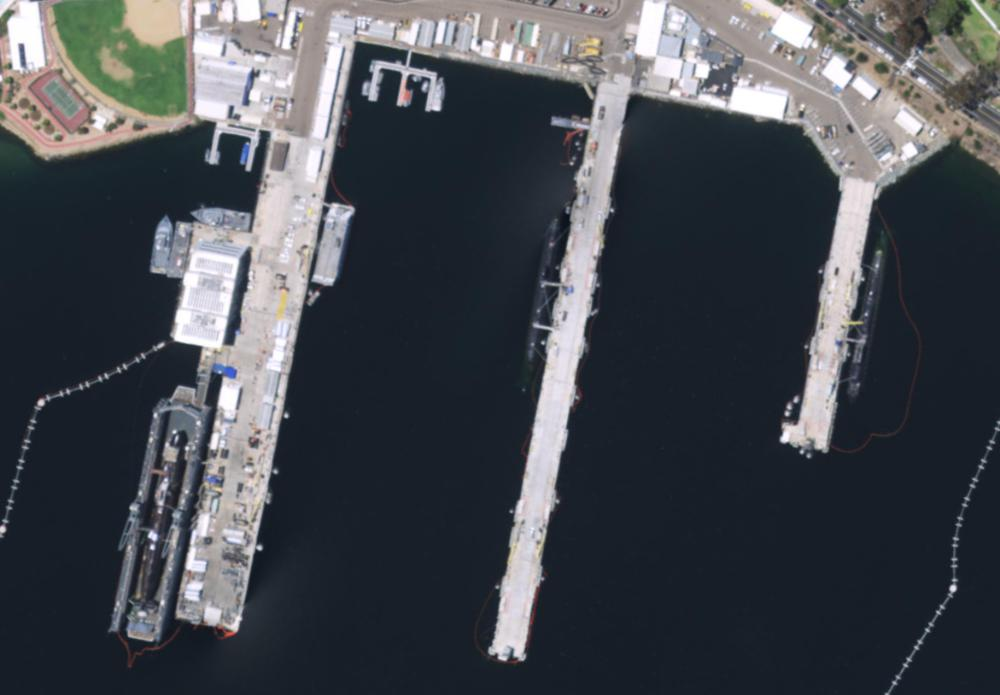submarine: (514, 210, 573, 401), (843, 232, 898, 407)
